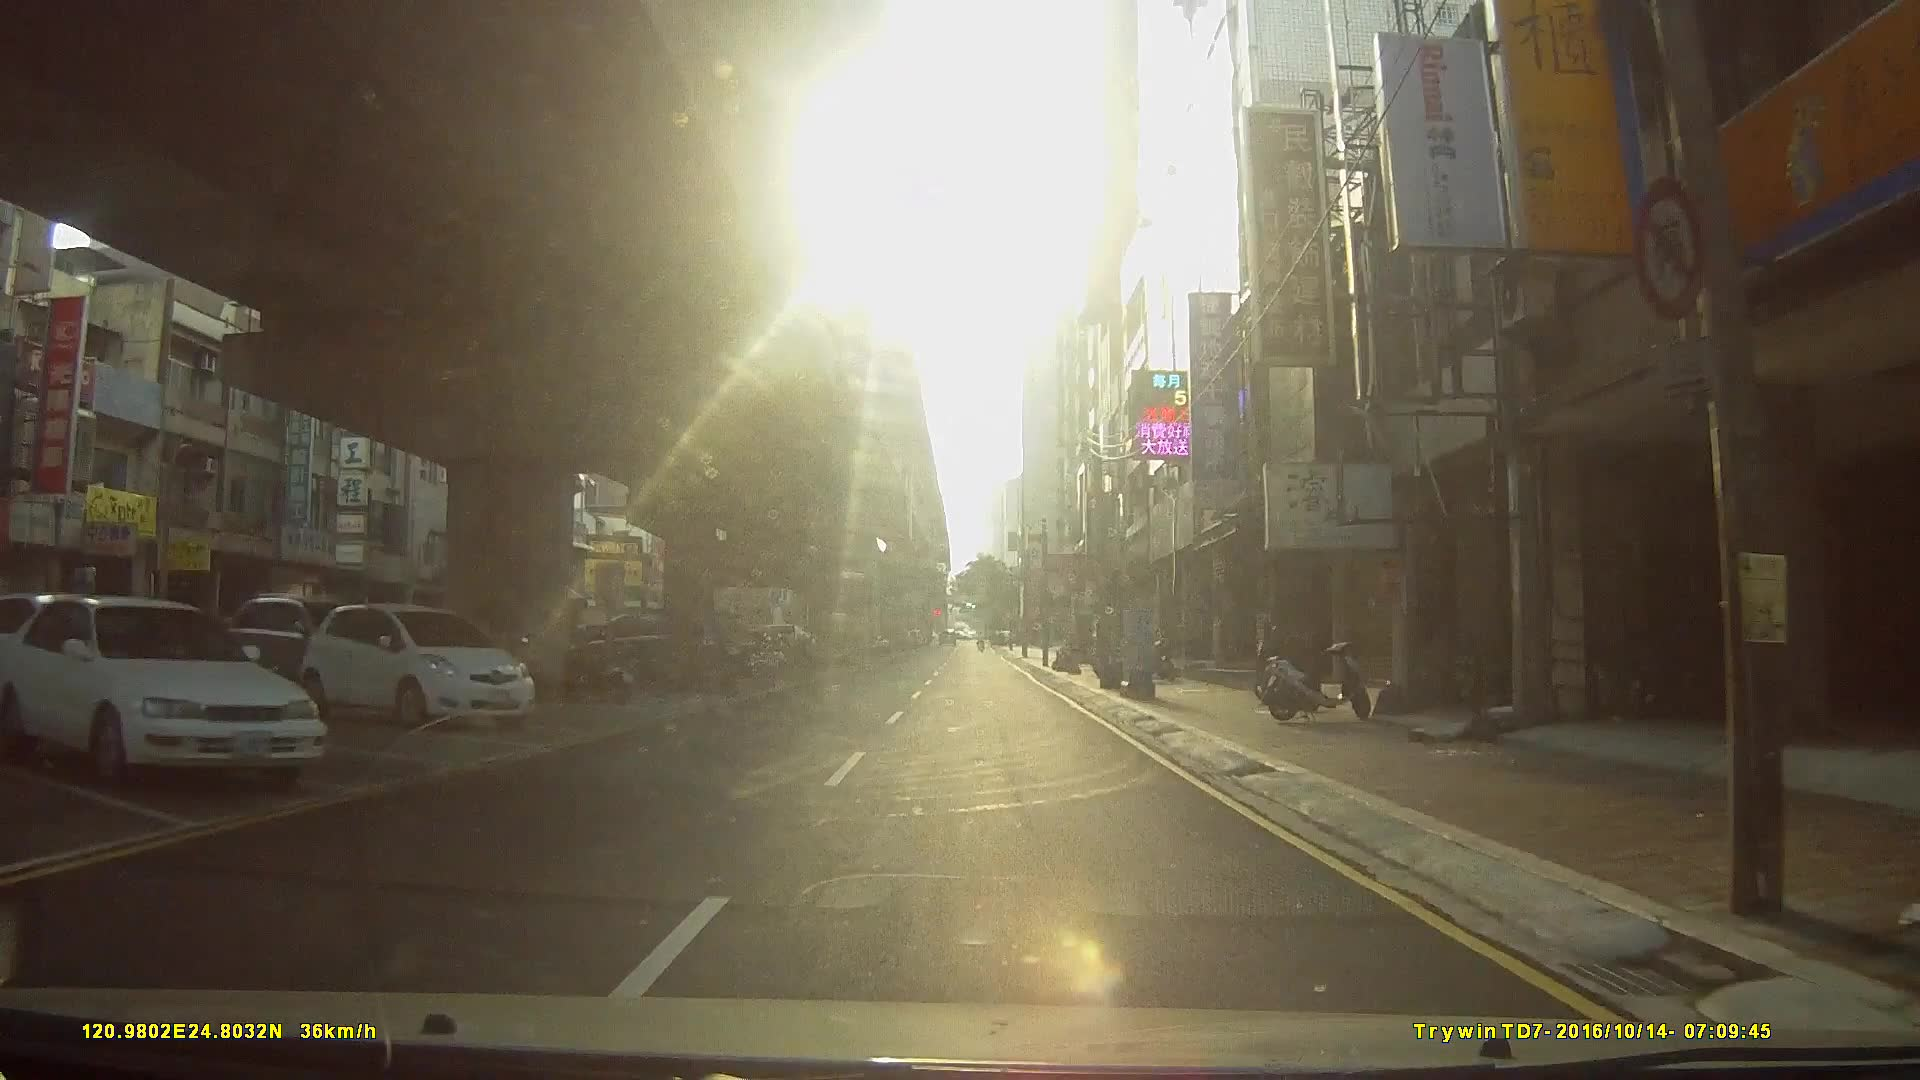vehicle: (0, 593, 324, 791), (301, 599, 537, 732), (224, 597, 367, 694)
